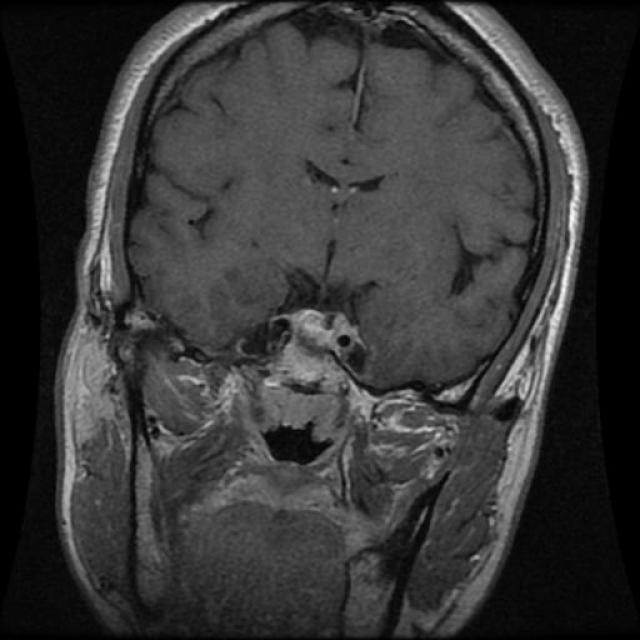pituitary: (263, 285, 365, 395)
